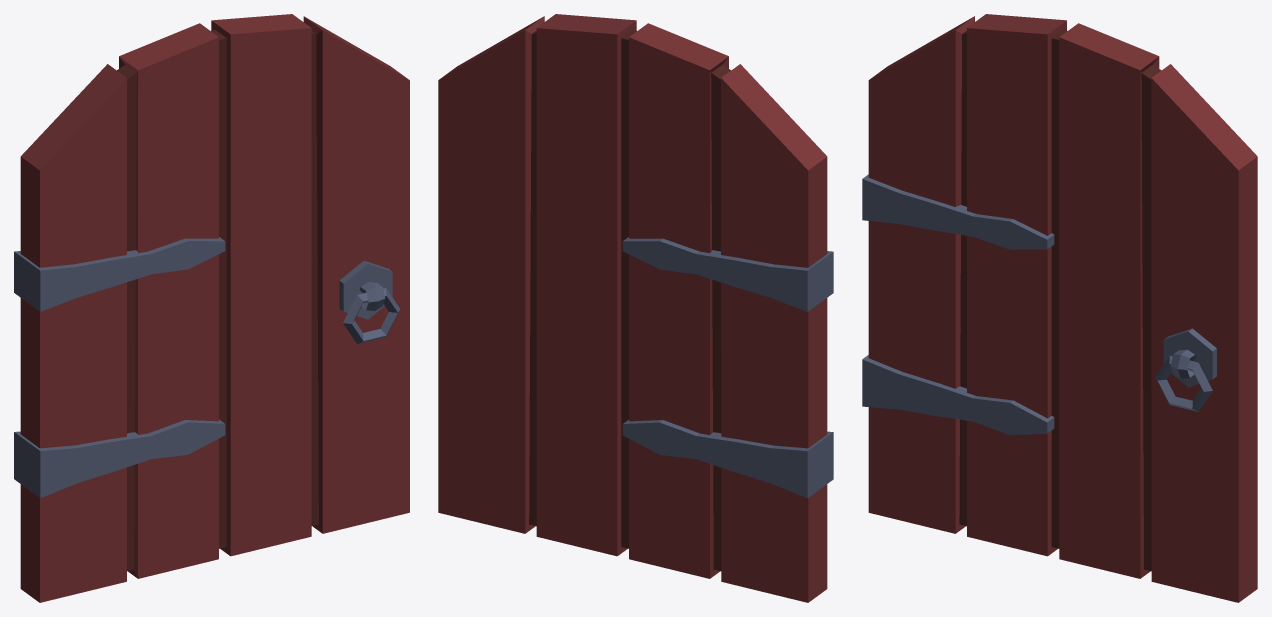
Rendered from door-003.glb.
3 views of the same model, side by side, from view 1: azimuth 30°, elevation 25°; view 2: azimuth 150°, elevation 25°; view 3: azimuth 330°, elevation 25° (orthographic).
Parts seen in each view (by area): view 1: door.003; view 2: door.003; view 3: door.003.
Part boxes in pixels (x1,y1,x2,y2): door.003: (14, 14, 409, 602); door.003: (438, 14, 833, 602); door.003: (862, 14, 1257, 602).
Size of the model in its own units: 2 by 2.68 by 0.3487.
